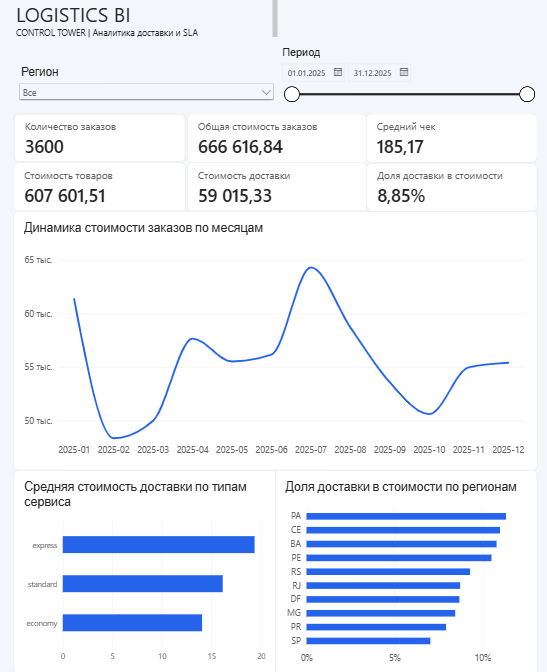

The dashboard page shown, as its layout file describes it:
{"tool":"powerbi","page":{"name":"Cost & Business Analytics","canvas":[900,1080],"ordinal":2},"visuals":[{"type":"cardVisual","fields":{"Data":["fact_orders.Количество заказов"]},"box":[28,182,276,78],"z":0},{"type":"cardVisual","fields":{"Data":["fact_orders.Общая стоимость заказов"]},"box":[306,182,288,78],"z":1000},{"type":"cardVisual","fields":{"Data":["fact_orders.Средний чек"]},"box":[592,182,274,78],"z":2000},{"type":"cardVisual","fields":{"Data":["fact_orders.Стоимость товаров"]},"box":[28,260,276,78],"z":3000},{"type":"cardVisual","fields":{"Data":["fact_orders.Стоимость доставки"]},"box":[306,260,288,78],"z":4000},{"type":"cardVisual","fields":{"Data":["fact_orders.Доля доставки в стоимости"]},"box":[592,260,274,78],"z":5000},{"type":"lineChart","title":"Динамика стоимости заказов по месяцам","fields":{"Category":["dim_date.year_month"],"Y":["fact_orders.Общая стоимость заказов"]},"box":[28,338,838,414],"z":6000},{"type":"clusteredBarChart","title":"Доля доставки в стоимости по регионам","fields":{"Category":["dim_region.state"],"Y":["fact_orders.Доля доставки в стоимости"]},"box":[446,752,420,332],"z":7000},{"type":"clusteredBarChart","title":"Средняя стоимость доставки по типам сервиса","fields":{"Category":["dim_service.service_type"],"Y":["fact_orders.Средняя стоимость доставки на заказ"]},"box":[28,752,420,328],"z":8000},{"type":"slicer","fields":{"Values":["dim_region.state"]},"box":[32,104,418,64],"z":9000},{"type":"slicer","fields":{"Values":["dim_date.calendar_date"]},"box":[450,74,416,148],"z":10000},{"type":"textbox","box":[32,0,418,60],"z":11000}]}

Visuals, with their boxes in screenshot pixels (x1, y1, x2, y2), scaled from the page's 900x1080 canvas onto the 547x672 screenshot:
cardVisual - fact_orders.Количество заказов: (17,113,185,162)
cardVisual - fact_orders.Общая стоимость заказов: (186,113,361,162)
cardVisual - fact_orders.Средний чек: (360,113,526,162)
cardVisual - fact_orders.Стоимость товаров: (17,162,185,210)
cardVisual - fact_orders.Стоимость доставки: (186,162,361,210)
cardVisual - fact_orders.Доля доставки в стоимости: (360,162,526,210)
"Динамика стоимости заказов по месяцам" lineChart: (17,210,526,468)
"Доля доставки в стоимости по регионам" clusteredBarChart: (271,468,526,671)
"Средняя стоимость доставки по типам сервиса" clusteredBarChart: (17,468,272,671)
slicer - dim_region.state: (19,65,274,105)
slicer - dim_date.calendar_date: (274,46,526,138)
textbox: (19,0,274,37)
